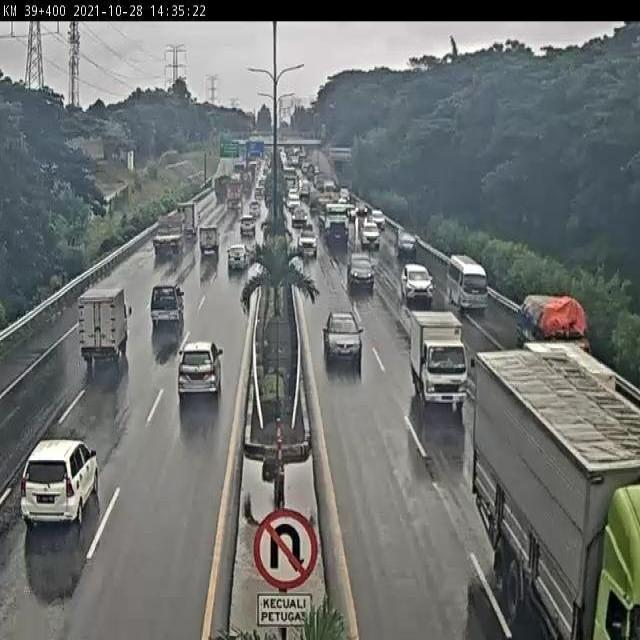big truck: (473, 344, 640, 640), (319, 201, 353, 247), (225, 176, 245, 213), (212, 171, 229, 201)
car: (18, 429, 109, 539), (169, 334, 239, 406), (315, 307, 374, 373), (145, 283, 192, 337), (398, 260, 442, 311), (345, 253, 381, 300), (392, 227, 427, 264), (196, 224, 223, 265), (298, 227, 323, 260), (223, 247, 249, 277), (359, 224, 382, 252), (238, 213, 260, 239), (369, 208, 390, 231)
small bus: (446, 254, 496, 318)
small truck: (405, 306, 470, 414), (519, 336, 625, 388), (73, 285, 133, 376), (522, 283, 592, 348), (151, 206, 187, 266)
